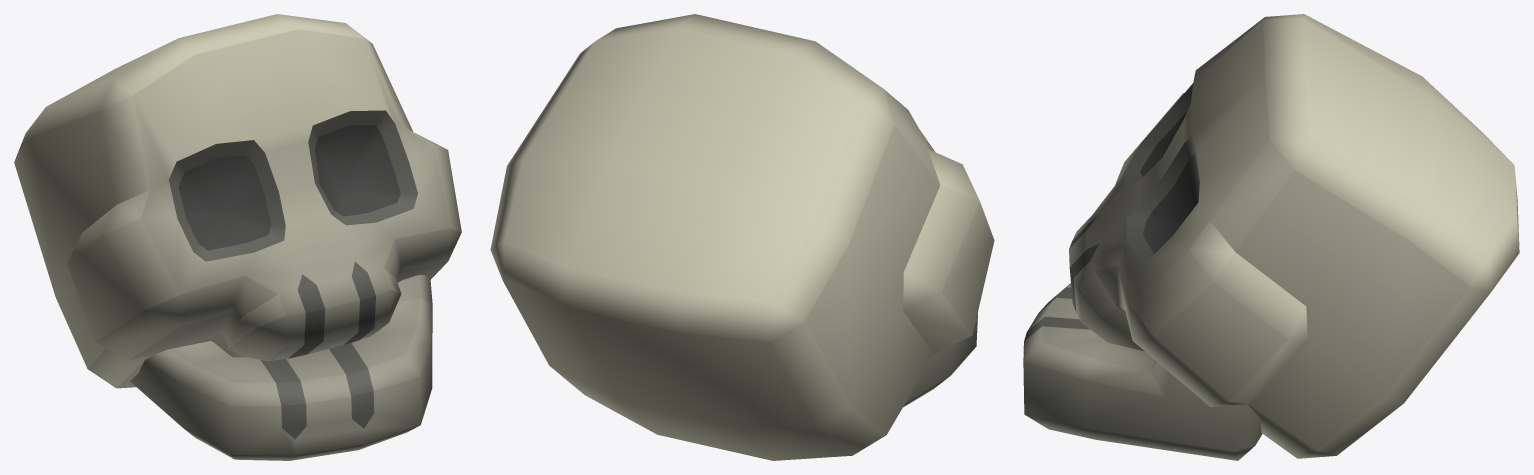
The model's file is deco_skull_2.fbx.
3 views of the same model, side by side, from view 1: azimuth 30°, elevation 25°; view 2: azimuth 150°, elevation 25°; view 3: azimuth 270°, elevation 25° (orthographic). The views are drawn at different scales.
Visible parts, largest first — view 1: deco_skull_2; view 2: deco_skull_2; view 3: deco_skull_2.
Part boxes in pixels (<box>): deco_skull_2: <box>14,14,461,460</box>; deco_skull_2: <box>490,14,994,460</box>; deco_skull_2: <box>1023,14,1519,460</box>.
Bounding box in the file's own units: 49.11 × 46.73 × 56.91.
